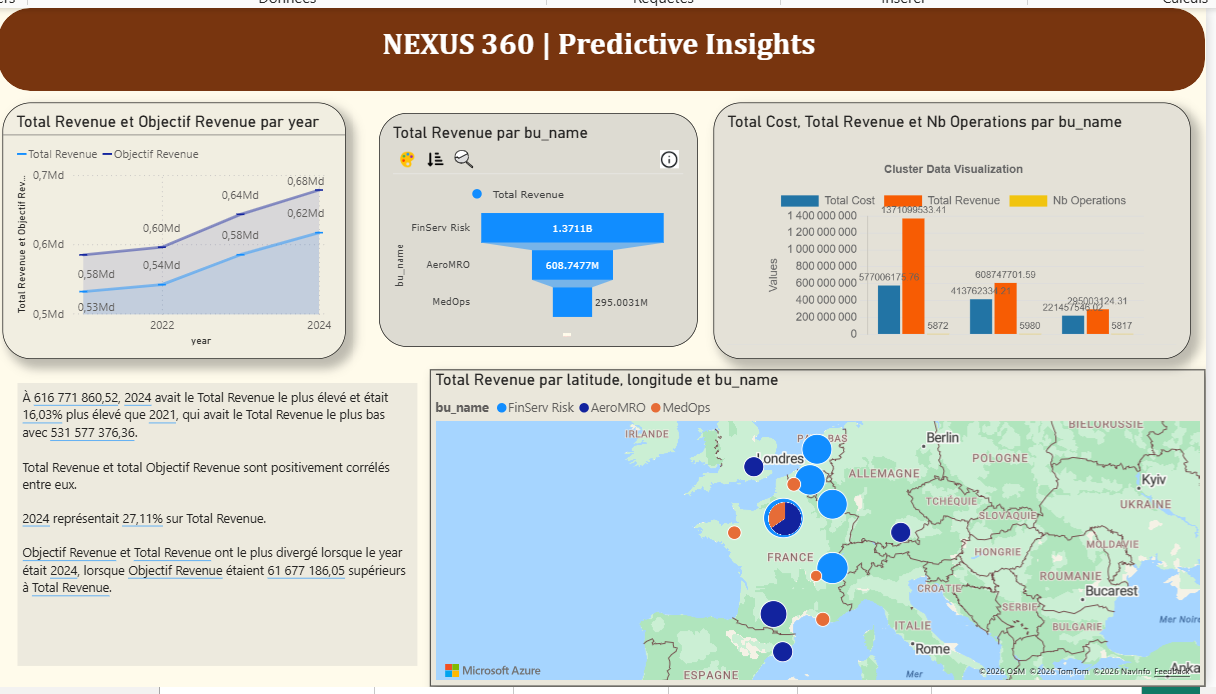

This screenshot's page, from the dashboard's own definition file:
{"tool":"powerbi","page":{"name":"Predictive Insights","canvas":[1280,720],"ordinal":5},"visuals":[{"type":"shape","box":[0,0,1280,88],"z":0},{"type":"textbox","box":[368,12,530,62],"z":1000},{"type":"lineChart","fields":{"Category":["Dim_Date.year"],"Y":["_Mesures.Total Revenue","_Mesures.Objectif Revenue"]},"box":[20,112,364,272],"z":2000},{"type":"textbox","box":[20,398,424,300],"z":3000},{"type":"stackedverticalfunnelB41D28FF99E2A12556D4C6B1065332F9","fields":{"col_0":["Dim_Entity.bu_name"],"col_1":["_Mesures.Total Revenue"]},"box":[404,112,338,248],"z":4000},{"type":"clusteredChart","fields":{"Y-axis1":["_Mesures.Total Cost","_Mesures.Total Revenue","_Mesures.Nb Operations"],"category":["Dim_Entity.bu_name"]},"box":[758,112,506,272],"z":6000},{"type":"azureMap","fields":{"Y":["Dim_Geo.latitude"],"X":["Dim_Geo.longitude"],"Size":["_Mesures.Total Revenue"],"Series":["Dim_Entity.bu_name"]},"box":[458,384,822,336],"z":6001}]}

Visuals, with their boxes in screenshot pixels (x1, y1, x2, y2):
shape: {"x1": 0, "y1": 3, "x2": 1199, "y2": 86}
textbox: {"x1": 345, "y1": 14, "x2": 841, "y2": 72}
lineChart - Dim_Date.year x _Mesures.Total Revenue: {"x1": 19, "y1": 108, "x2": 360, "y2": 363}
textbox: {"x1": 19, "y1": 376, "x2": 416, "y2": 657}
stackedverticalfunnelB41D28FF99E2A12556D4C6B1065332F9 - Dim_Entity.bu_name x _Mesures.Total Revenue: {"x1": 378, "y1": 108, "x2": 695, "y2": 340}
clusteredChart - _Mesures.Total Cost x _Mesures.Total Revenue: {"x1": 710, "y1": 108, "x2": 1184, "y2": 363}
azureMap - Dim_Geo.latitude x Dim_Geo.longitude: {"x1": 429, "y1": 363, "x2": 1199, "y2": 678}
